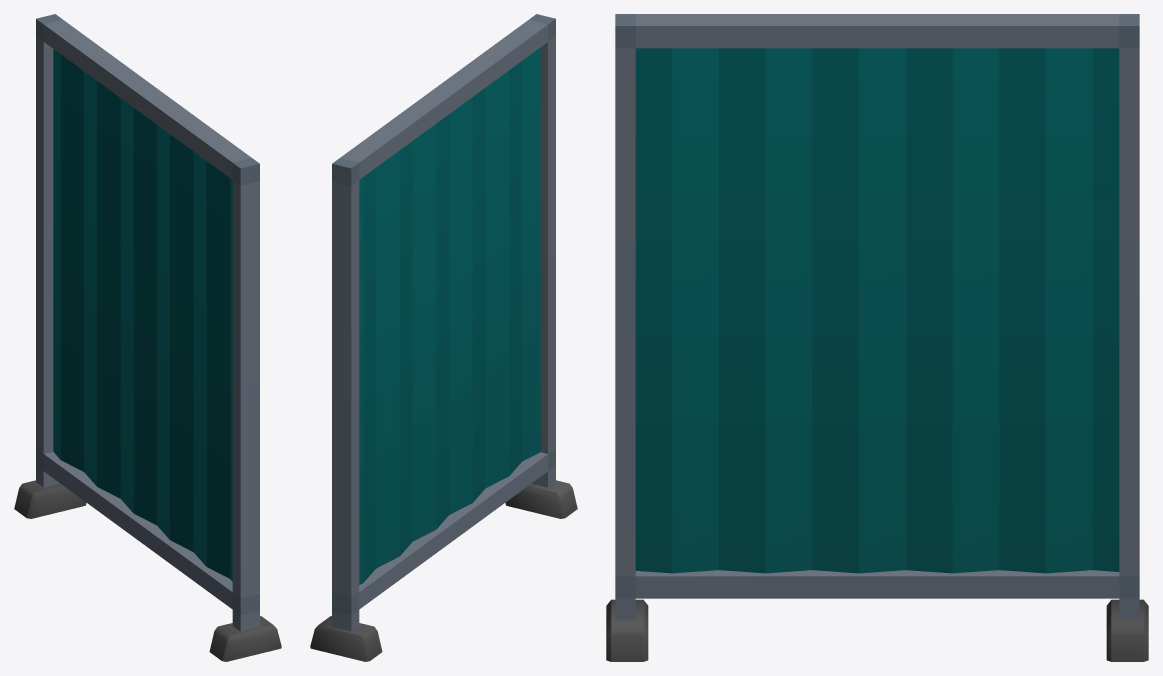
The model's file is Barier_2_5.fbx.
3 views of the same model, side by side, from view 1: azimuth 30°, elevation 25°; view 2: azimuth 150°, elevation 25°; view 3: azimuth 270°, elevation 25° (orthographic). The views are drawn at different scales.
Visible parts, largest first — view 1: Barier_2_5; view 2: Barier_2_5; view 3: Barier_2_5.
Boxes of the visible parts, box(x1,y1,x2,y2) form: Barier_2_5: box(14, 14, 281, 661); Barier_2_5: box(310, 14, 577, 661); Barier_2_5: box(606, 14, 1148, 661).
Size of the model in its own units: 34.35 by 268 by 211.
